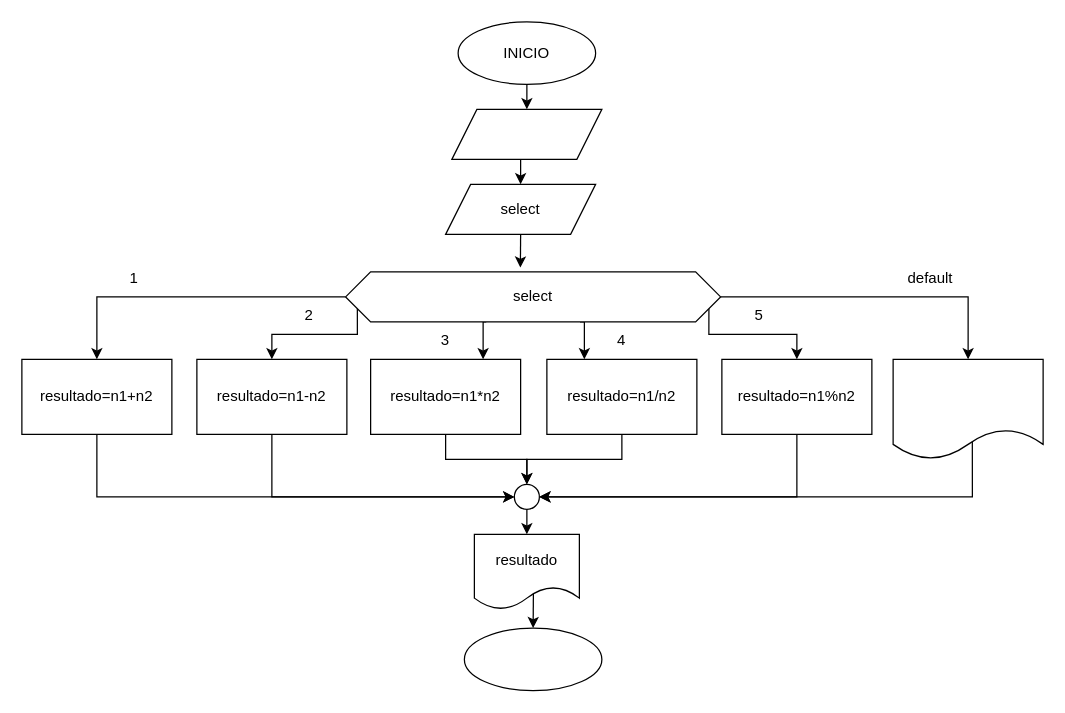
This 1065x713 diagram has some shape labels left out. Here are the shapes that lost their labels. From the top down, the box of each, then its label:
(451, 108, 602, 159): n1,n2
(892, 358, 1043, 459): "La opción escogida no es valida"
(463, 627, 602, 691): FIN
